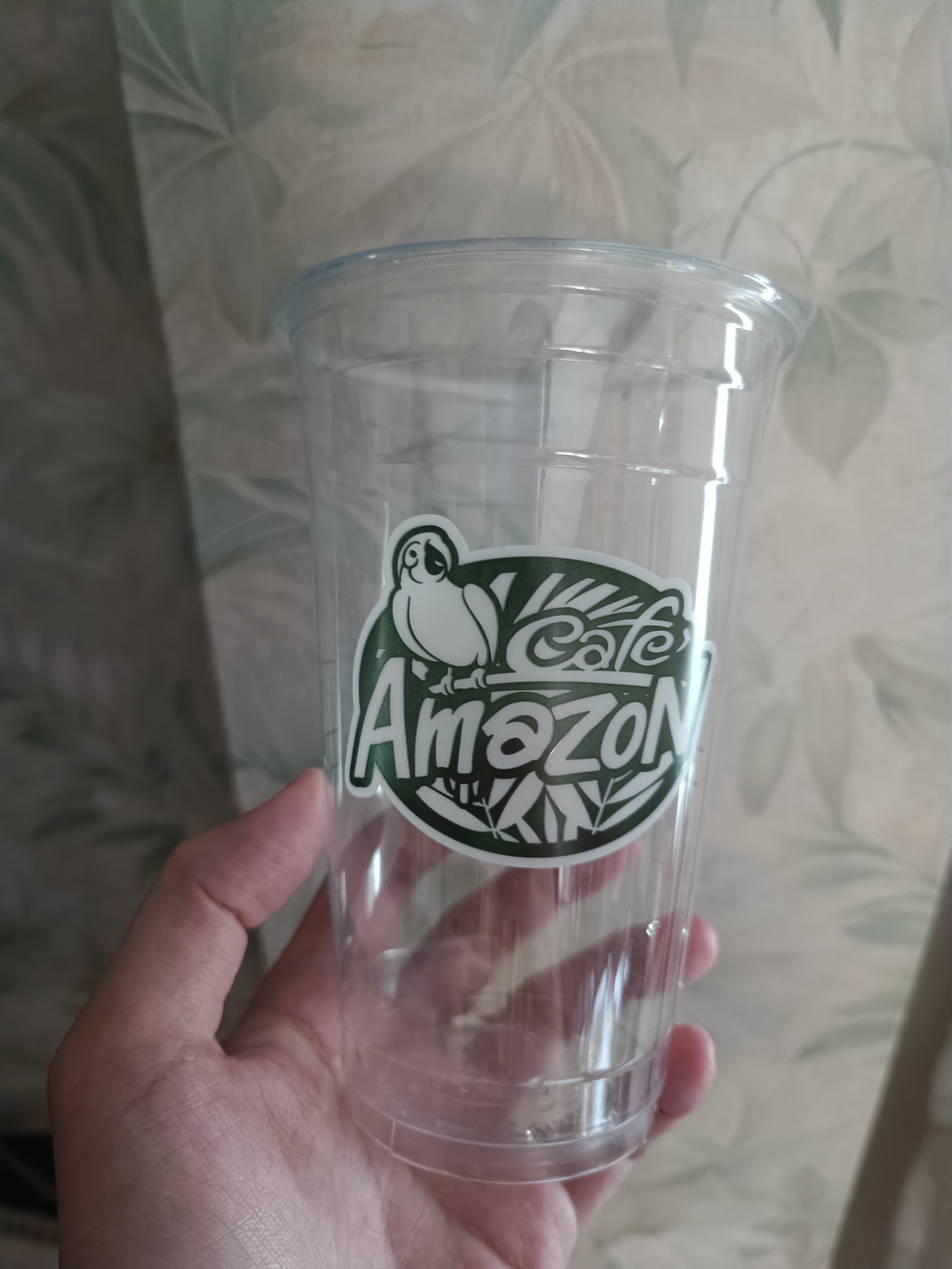plastic: (257, 224, 815, 1192)
